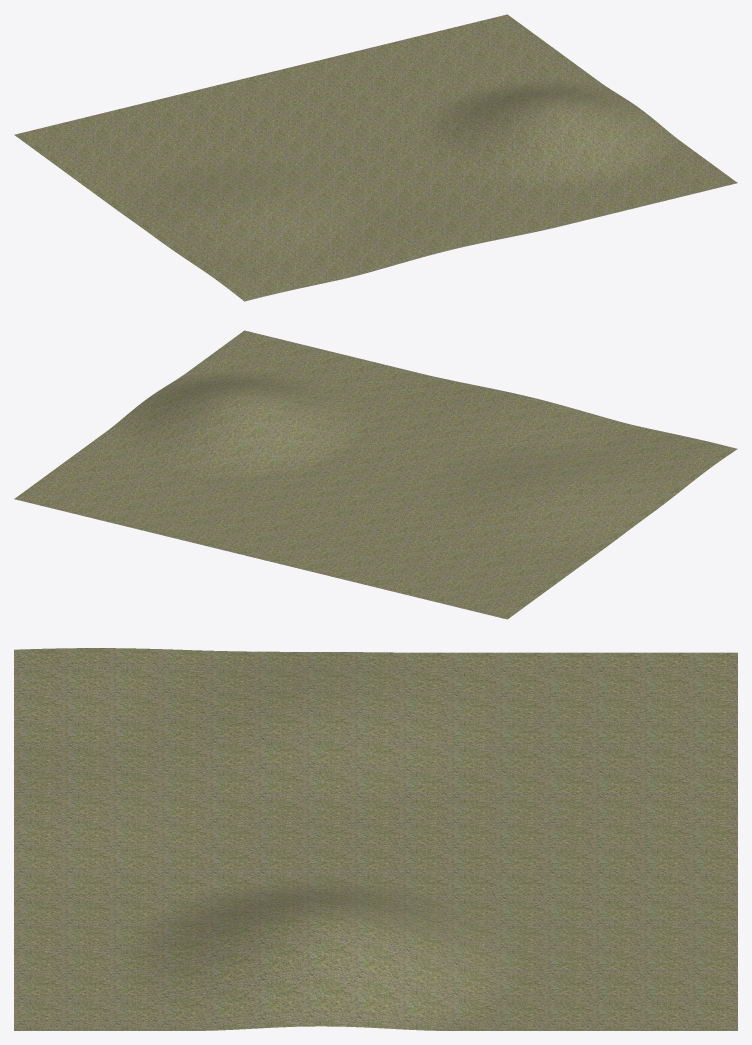
The model's file is ground_plane_only2.glb.
The picture shows the model from 3 angles, top to bottom: view 1: azimuth 30°, elevation 25°; view 2: azimuth 150°, elevation 25°; view 3: azimuth 270°, elevation 25°; orthographic projection. The views are drawn at different scales.
Visible parts, largest first — view 1: _Ground; view 2: _Ground; view 3: _Ground.
Boxes of the visible parts, x1,y1,x2,y2 form: _Ground: [14, 14, 737, 301]; _Ground: [14, 330, 737, 619]; _Ground: [14, 648, 737, 1030].
Bounding box in the file's own units: 63.9 × 3.15 × 51.69.
Materials: 1 (1 with a texture image).
